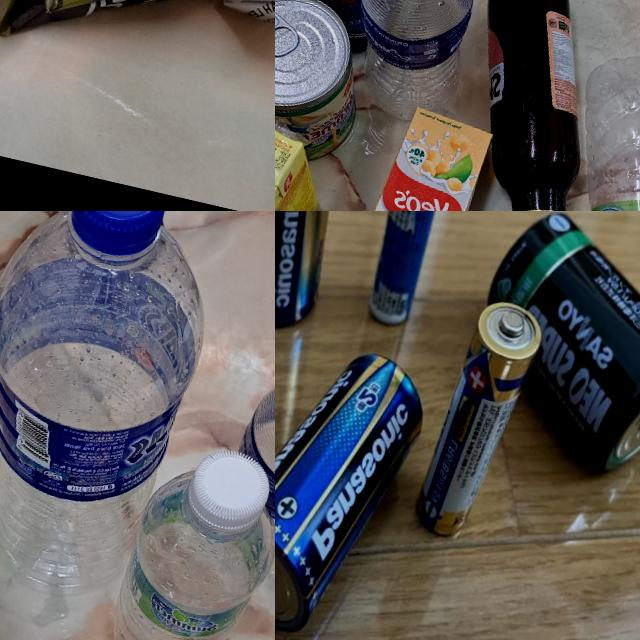aba de lata: (275, 5, 303, 61)
bateria: (450, 211, 640, 492), (275, 328, 437, 640), (404, 285, 550, 551), (346, 211, 463, 339), (275, 211, 366, 340)
caixinha: (341, 100, 493, 211), (275, 97, 339, 211)
garrafa de vidro: (422, 0, 634, 211)
garrafa plástica: (0, 211, 217, 601), (100, 469, 275, 640), (331, 0, 486, 127), (525, 42, 640, 211), (208, 362, 275, 596)
lata: (0, 0, 275, 125), (275, 0, 380, 170)
tampa plástica: (176, 441, 275, 544), (60, 211, 172, 264)
